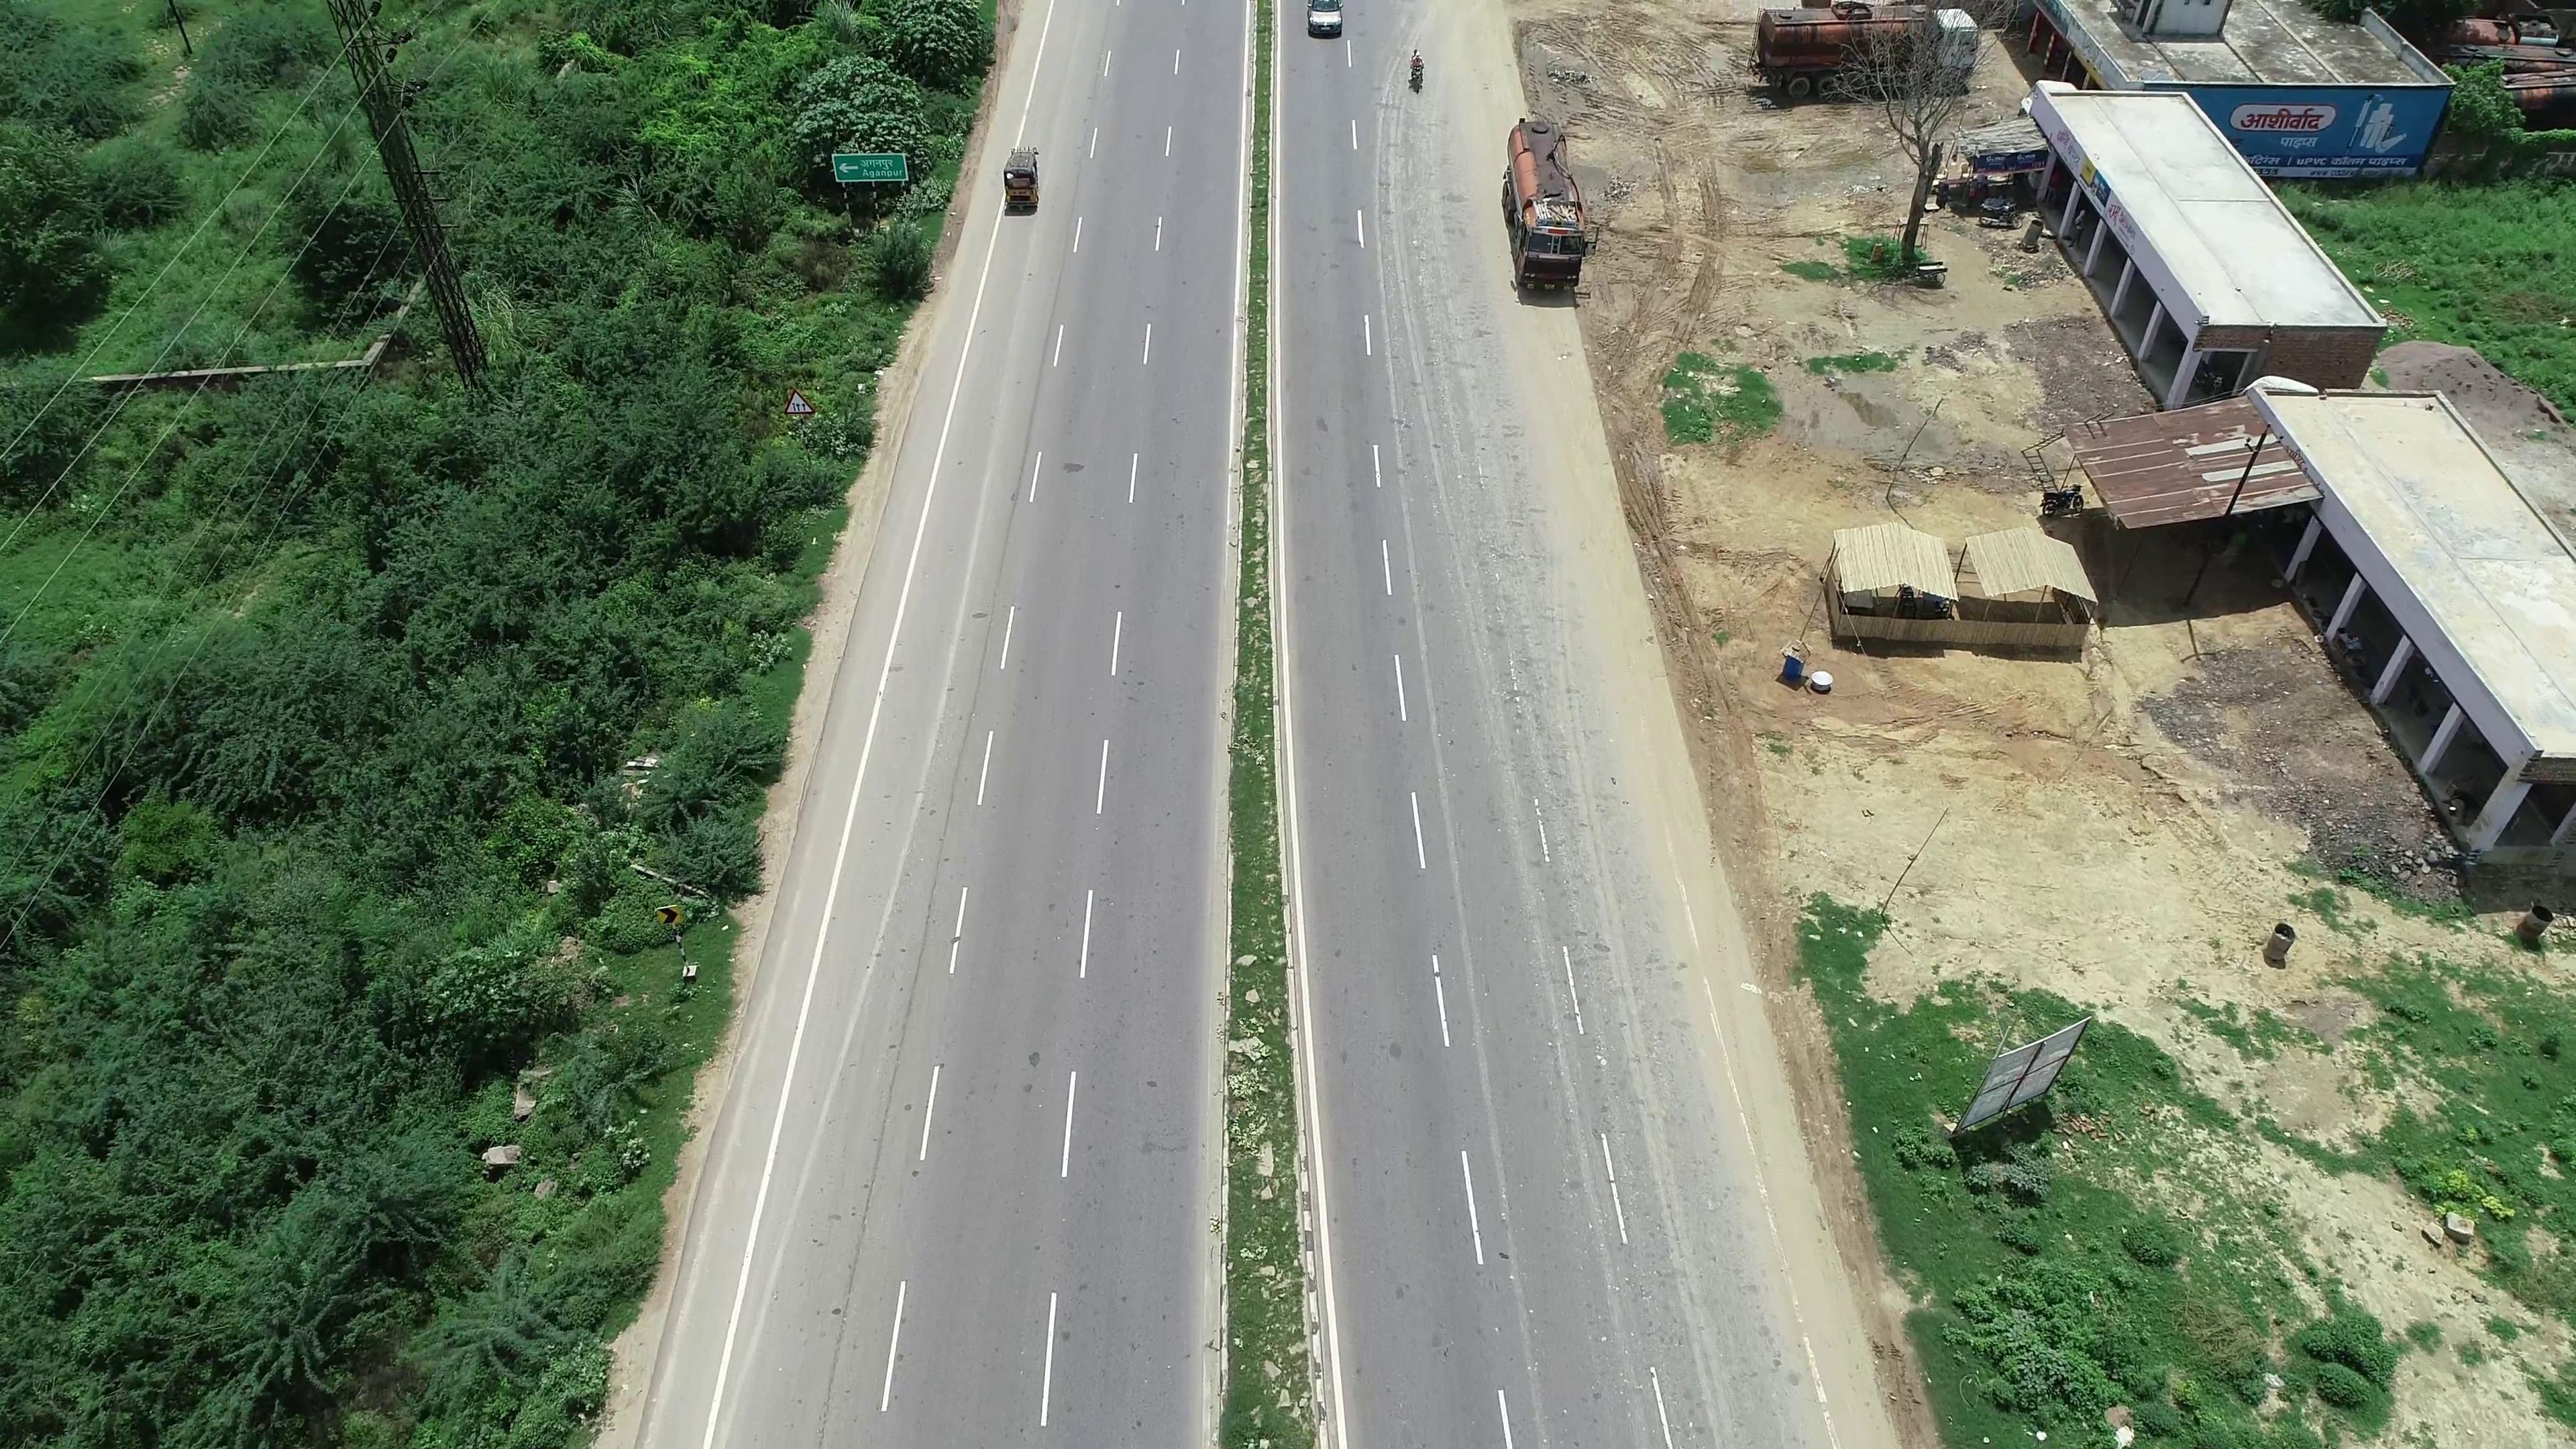Muddy_road: (1527, 370, 1633, 644)
